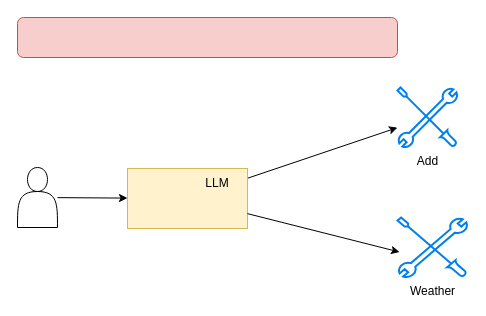
Some shapes in this 486 by 316 pixel diagram are drawn without their labels. Each missing label, with the box of its shape:
Agent: (126, 168, 248, 228)
Custom Tools: (16, 16, 398, 58)
